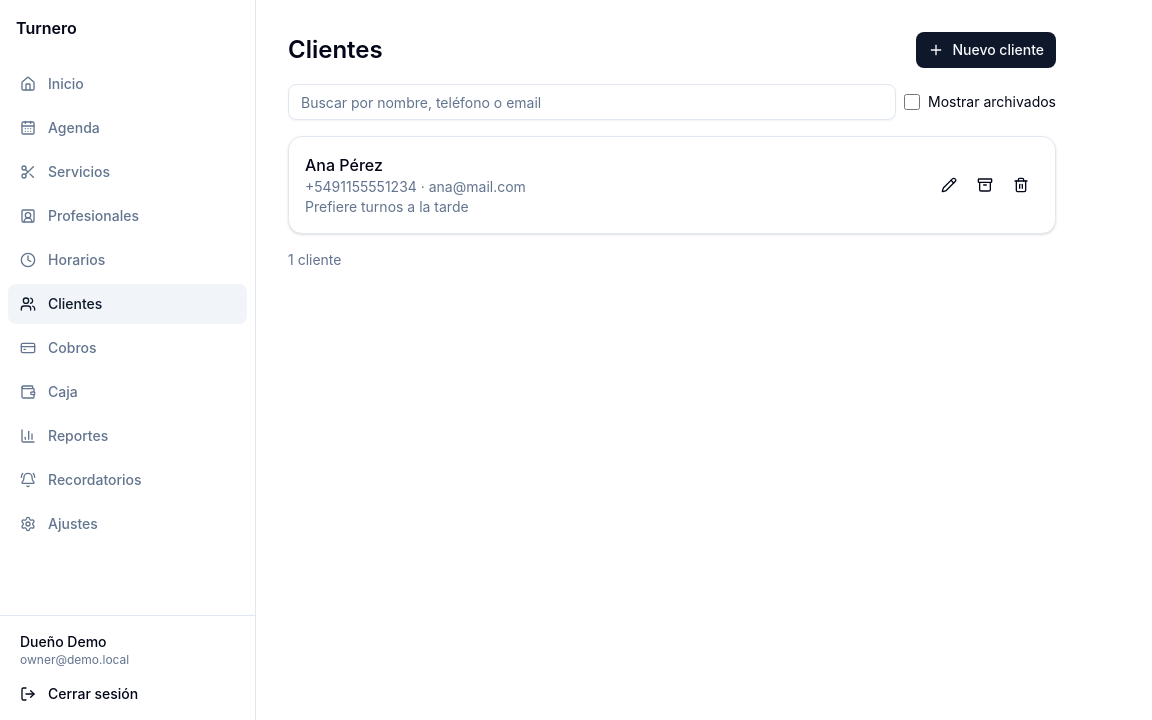
customers page › deletes a customer after confirming
Click the button named "Eliminar Ana Pérez" at [1021, 185], box [1003, 167, 1039, 203]
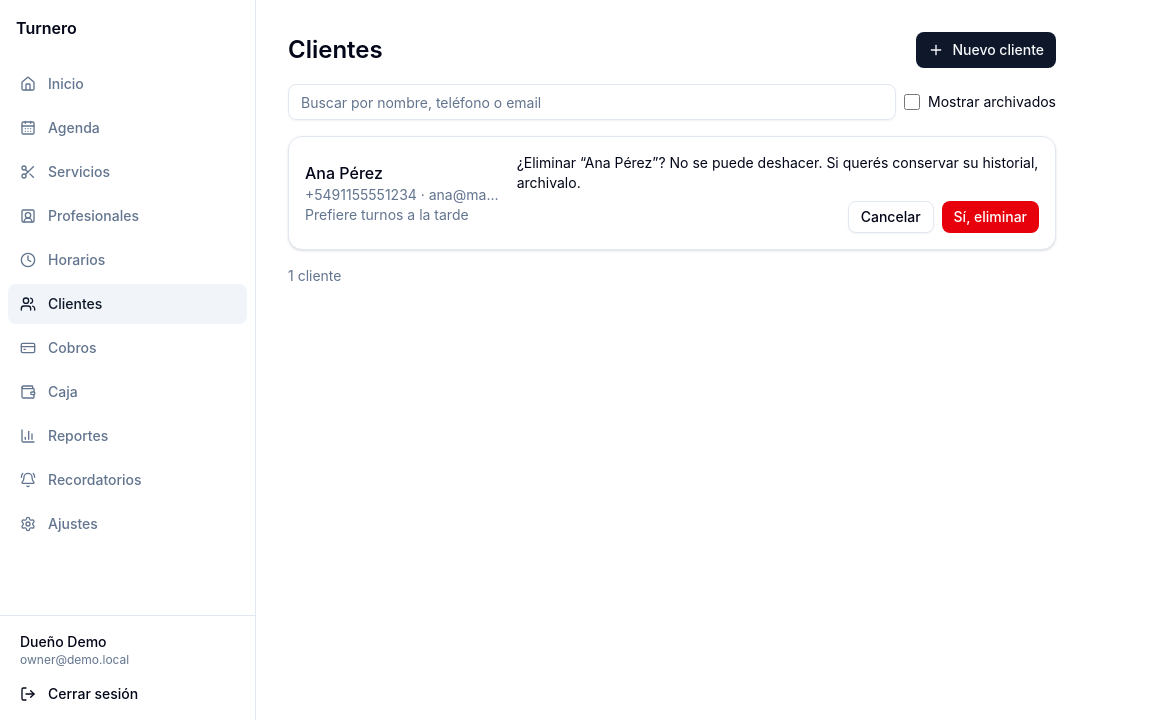
Click the button "Sí, eliminar" at [990, 217], box [942, 201, 1039, 233]
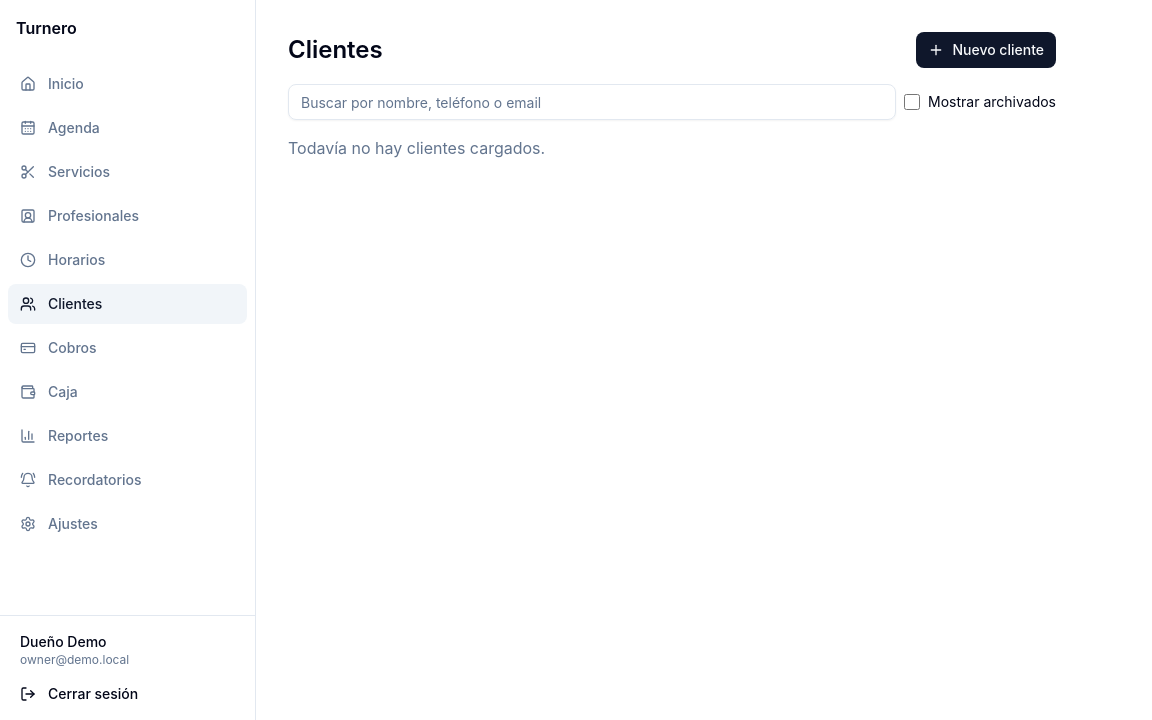
Expected: the text "Todavía no hay clientes cargados." is shown, [288, 138, 545, 158]
